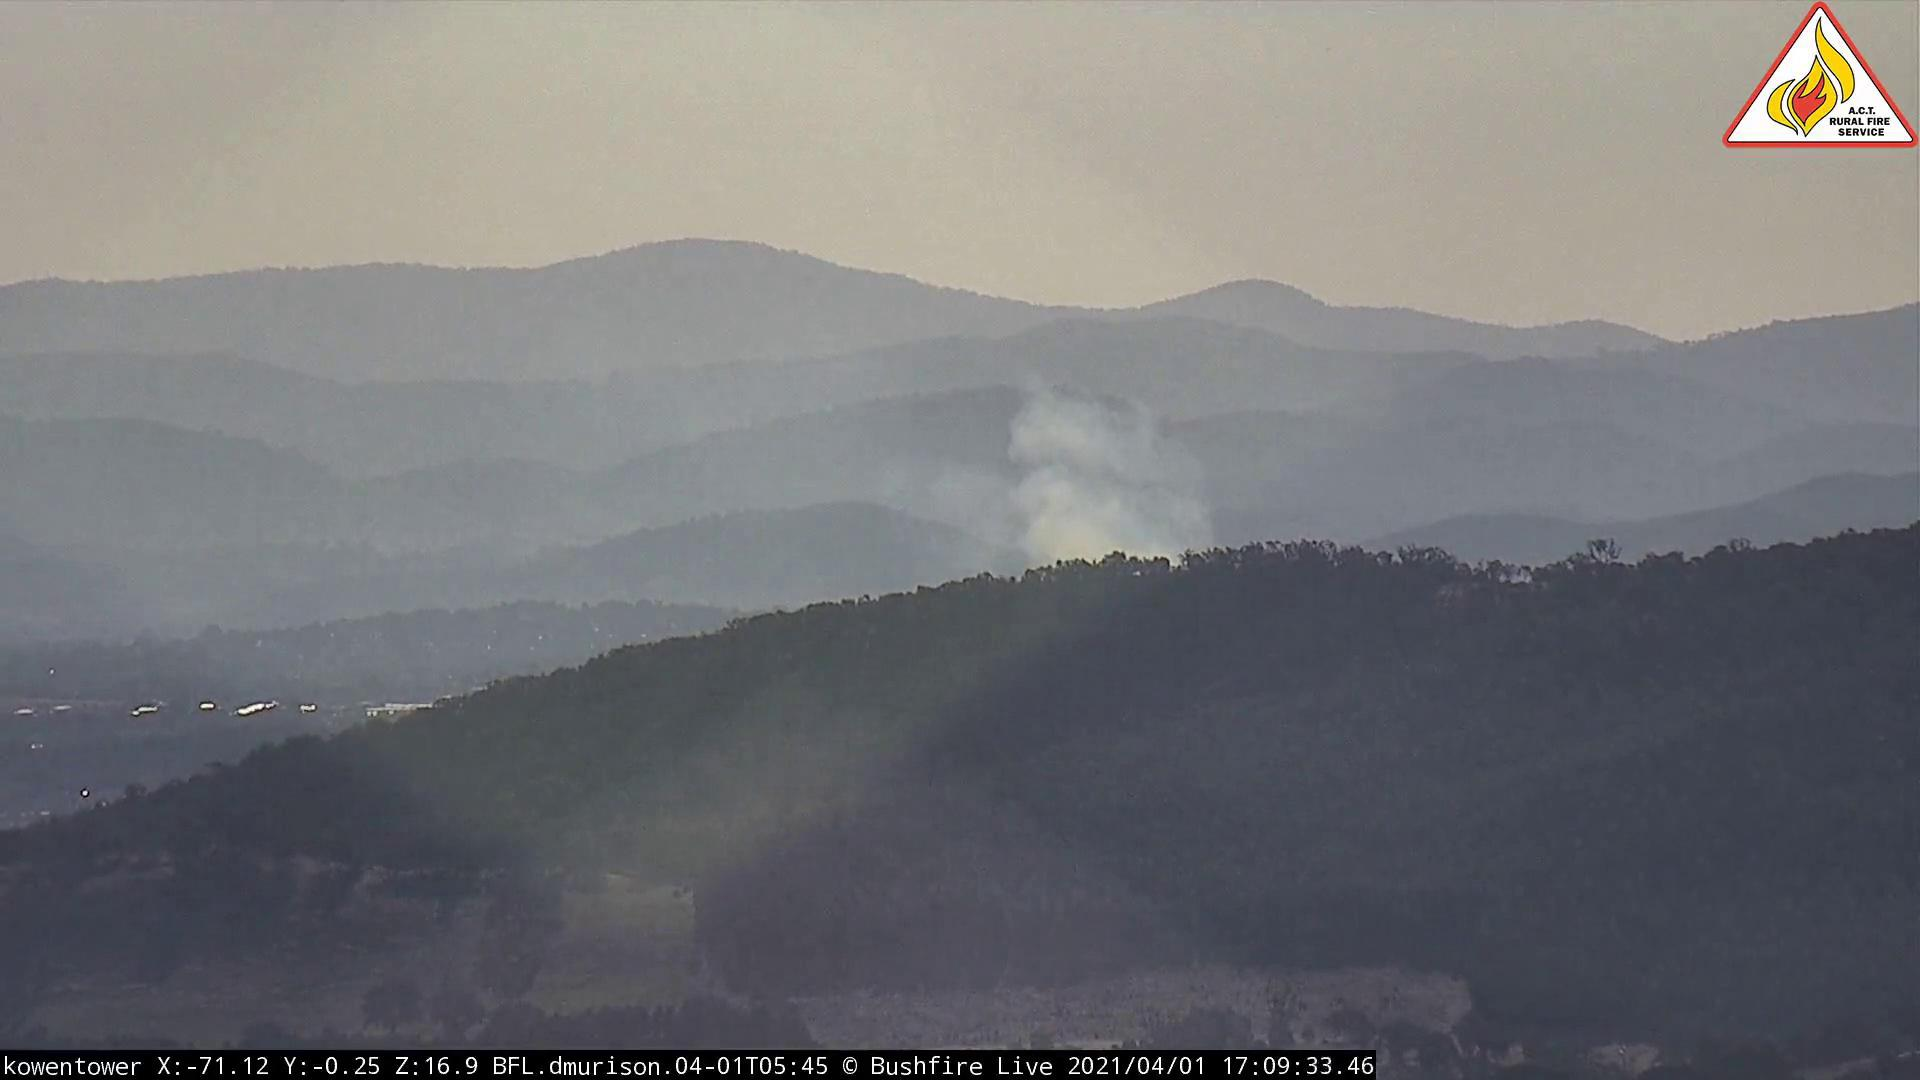Smoke: (899, 363, 1255, 612)
